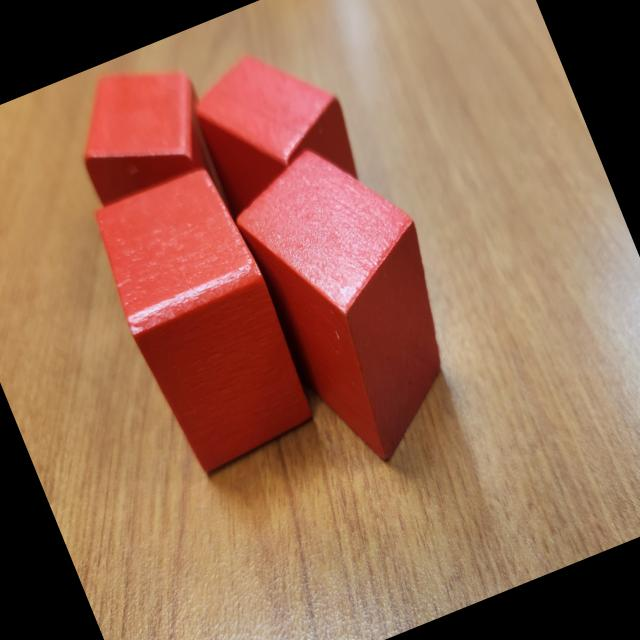red: (220, 120, 493, 482), (80, 154, 330, 486), (176, 26, 369, 230), (53, 46, 223, 210)
